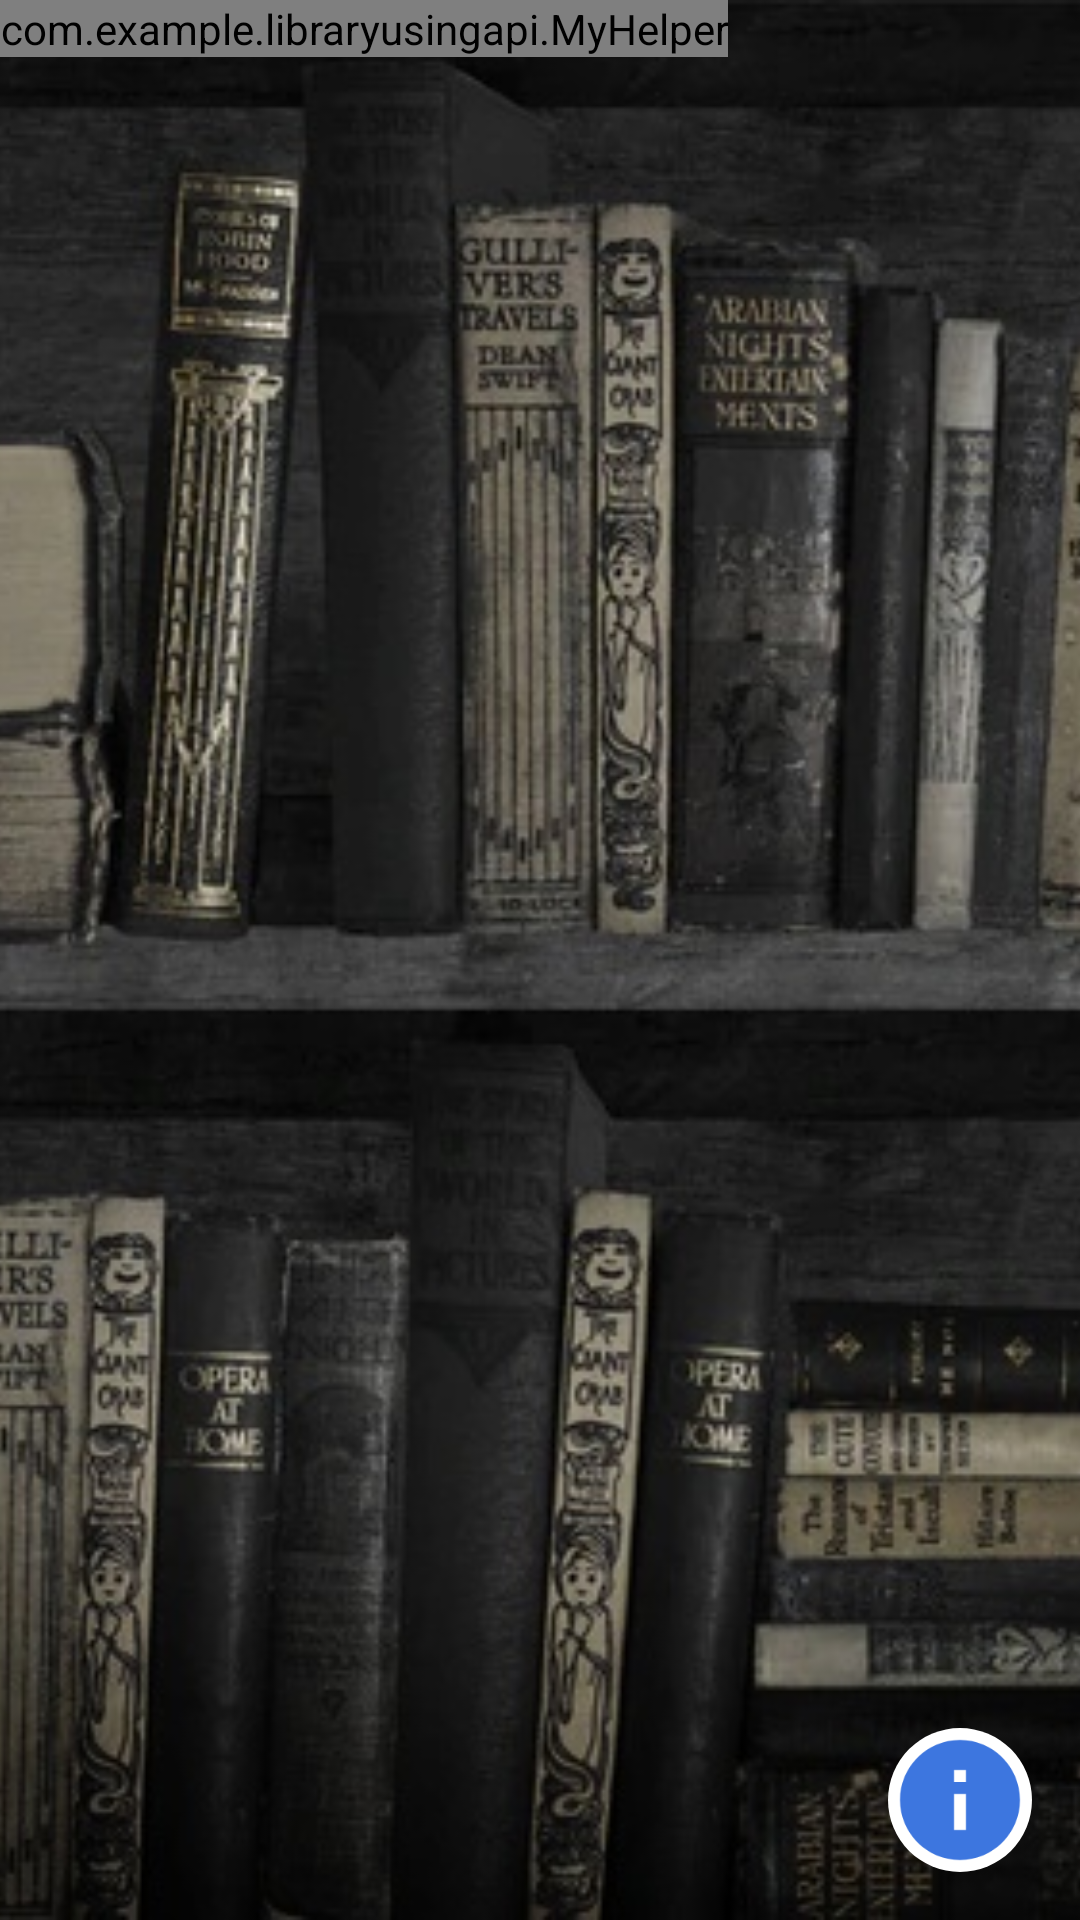

Point at icon controls on the screen. Image size 1080 × 1920, points as [x,y].
info: [960,1800]
